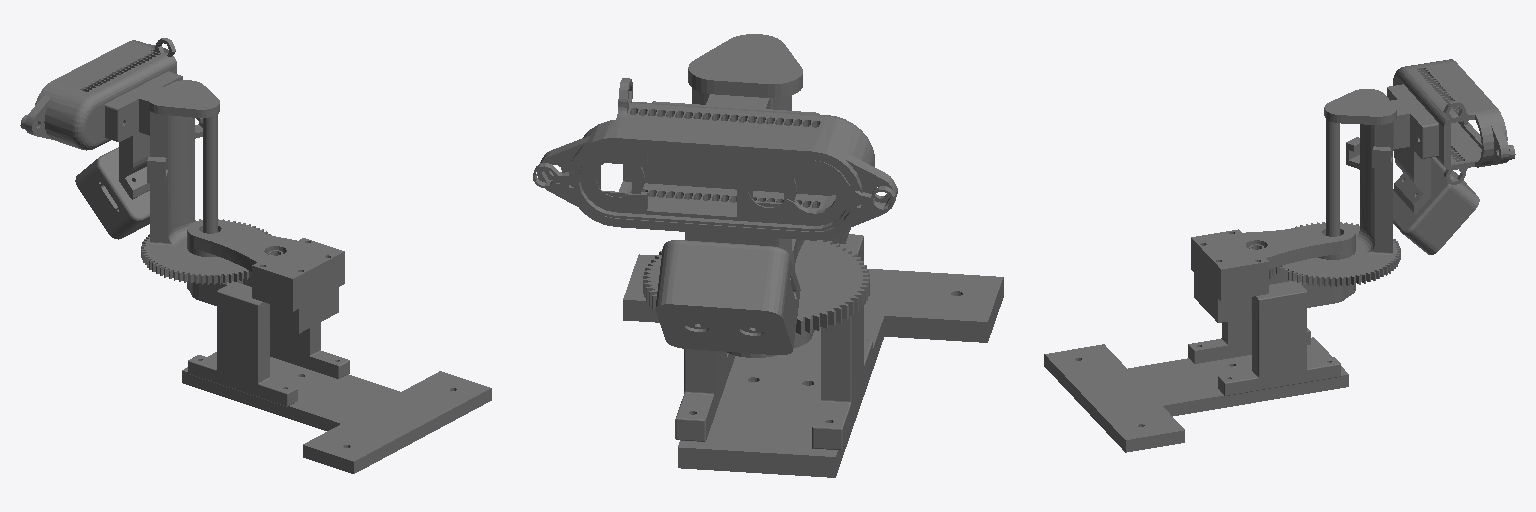
The robot description file, URDF, robot "Assem1":
<?xml version="1.0" encoding="utf-8"?>
<!-- This URDF was automatically created by SolidWorks to URDF Exporter! Originally created by [author] ([email redacted]) 
     Commit Version: 1.6.0-4-g7f85cfe  Build Version: 1.6.7995.38578
     For more information, please see http://wiki.ros.org/sw_urdf_exporter -->
<robot
  name="Assem1">
  <link
    name="stand_link">
    <inertial>
      <origin
        xyz="0.688360469363331 0.832553562411857 1.26566755732854"
        rpy="0 0 0" />
      <mass
        value="0.311684154115054" />
      <inertia
        ixx="0.000297584588539531"
        ixy="1.25221918342986E-05"
        ixz="-3.44549064110497E-05"
        iyy="0.000336423483471832"
        iyz="3.34208922508209E-05"
        izz="0.000222807944908811" />
    </inertial>
    <visual>
      <origin
        xyz="0 0 0"
        rpy="0 0 0" />
      <geometry>
        <mesh
          filename="package://Assem1/meshes/stand_link.STL" />
      </geometry>
      <material
        name="">
        <color
          rgba="0.501960784313725 0.501960784313725 0.501960784313725 1" />
      </material>
    </visual>
    <collision>
      <origin
        xyz="0 0 0"
        rpy="0 0 0" />
      <geometry>
        <mesh
          filename="package://Assem1/meshes/stand_link.STL" />
      </geometry>
    </collision>
  </link>
</robot>

--- Render facts (derived) ---
Views: 3 orthographic renders of the robot side by side, from view 1: azimuth 30°, elevation 25°; view 2: azimuth 150°, elevation 25°; view 3: azimuth 270°, elevation 25°.
Robot: Assem1 — 1 links, 0 joints (none); root link stand_link; default pose: every joint at zero.
Links seen in each view (by area): view 1: stand_link; view 2: stand_link; view 3: stand_link.
Boxes of the visible links, box(x1,y1,x2,y2) form: stand_link: box(20, 38, 491, 473); stand_link: box(533, 34, 1003, 477); stand_link: box(1044, 59, 1515, 452).
Bounding box of the posed robot: 0.1949 × 0.2577 × 0.1657 m (x, y, z).
Meshes: 1 distinct files referenced, 1 mesh visuals loaded (1 binary STL).
